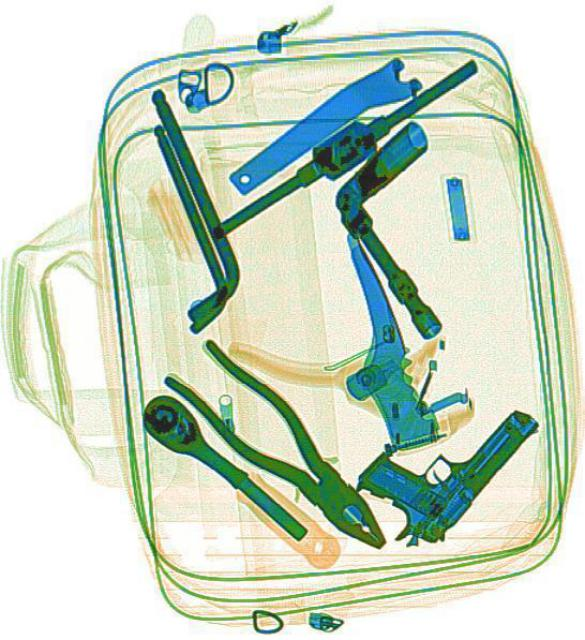Gun: (341, 354, 539, 560)
Pliers: (157, 327, 410, 568)
